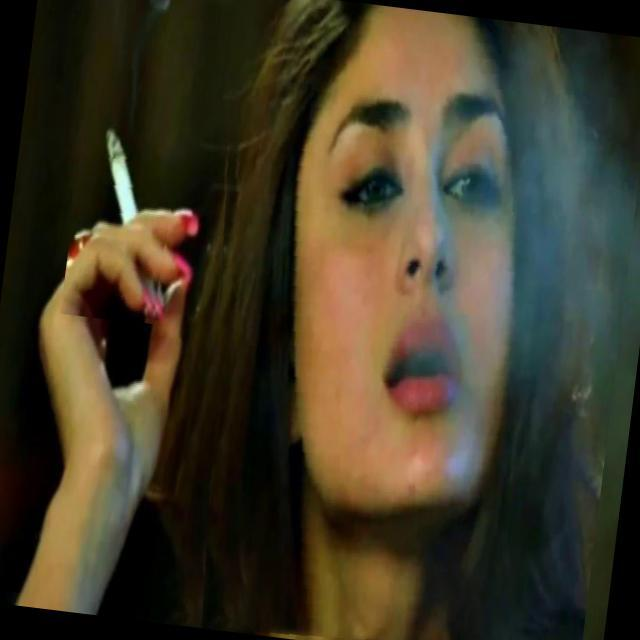cigarette: (60, 87, 188, 326)
